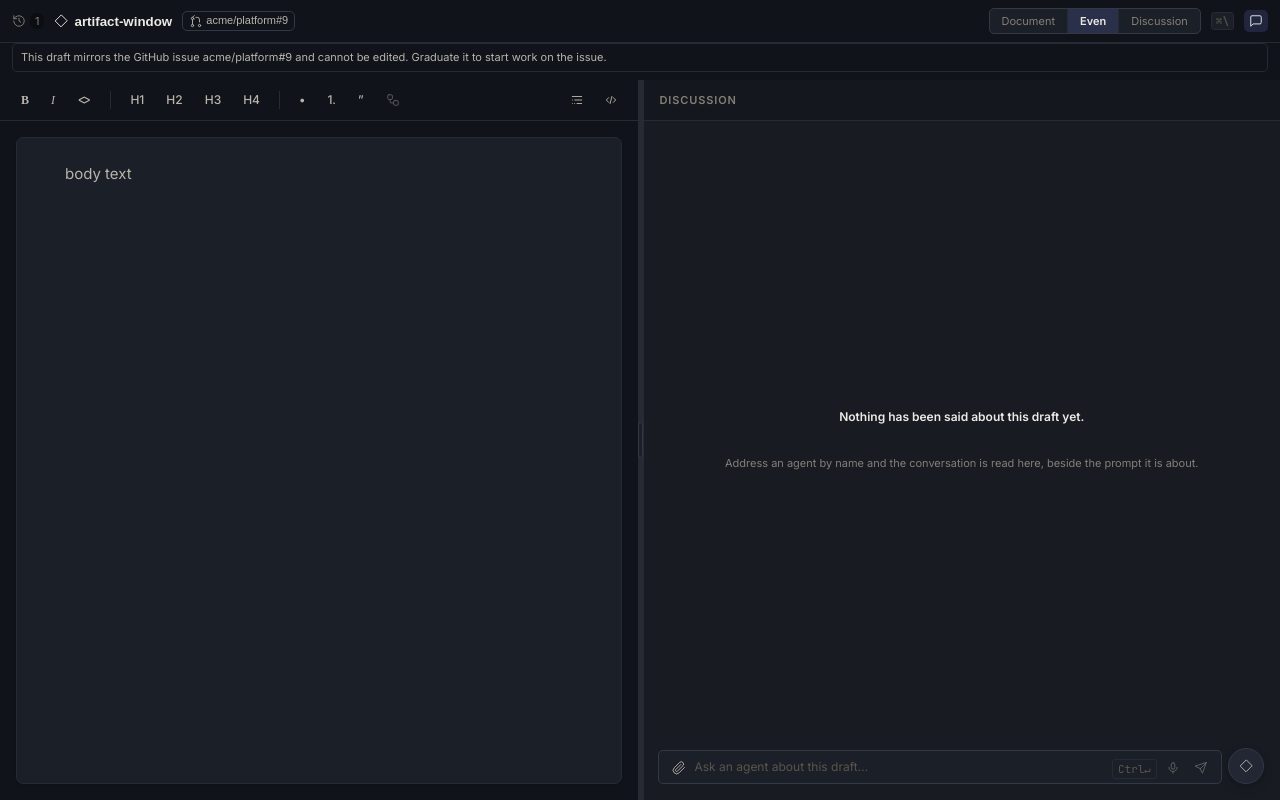
Test: New Artifact workspace — a GitHub-shadow draft › NAW-FR-AXFQ / GSD-FR-LXAF: Graduate opens the same start dialog with the same questions
Check: the text with test id "draft-github-shadow-banner" is shown, box [12,43,1268,72]
Click the button named "Draft actions": click(1246, 766) [1228,748,1264,784]
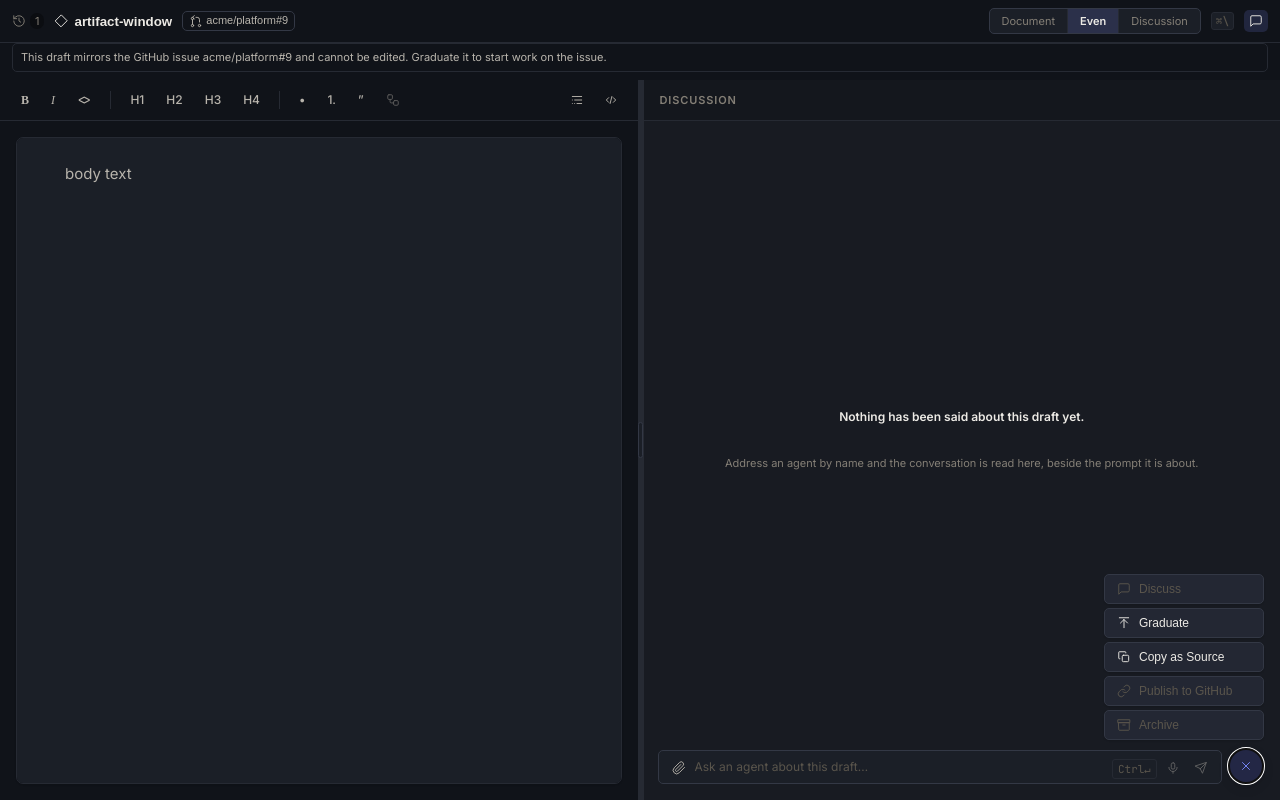
Click the menu item "Graduate": click(1184, 623) [1104,608,1264,638]
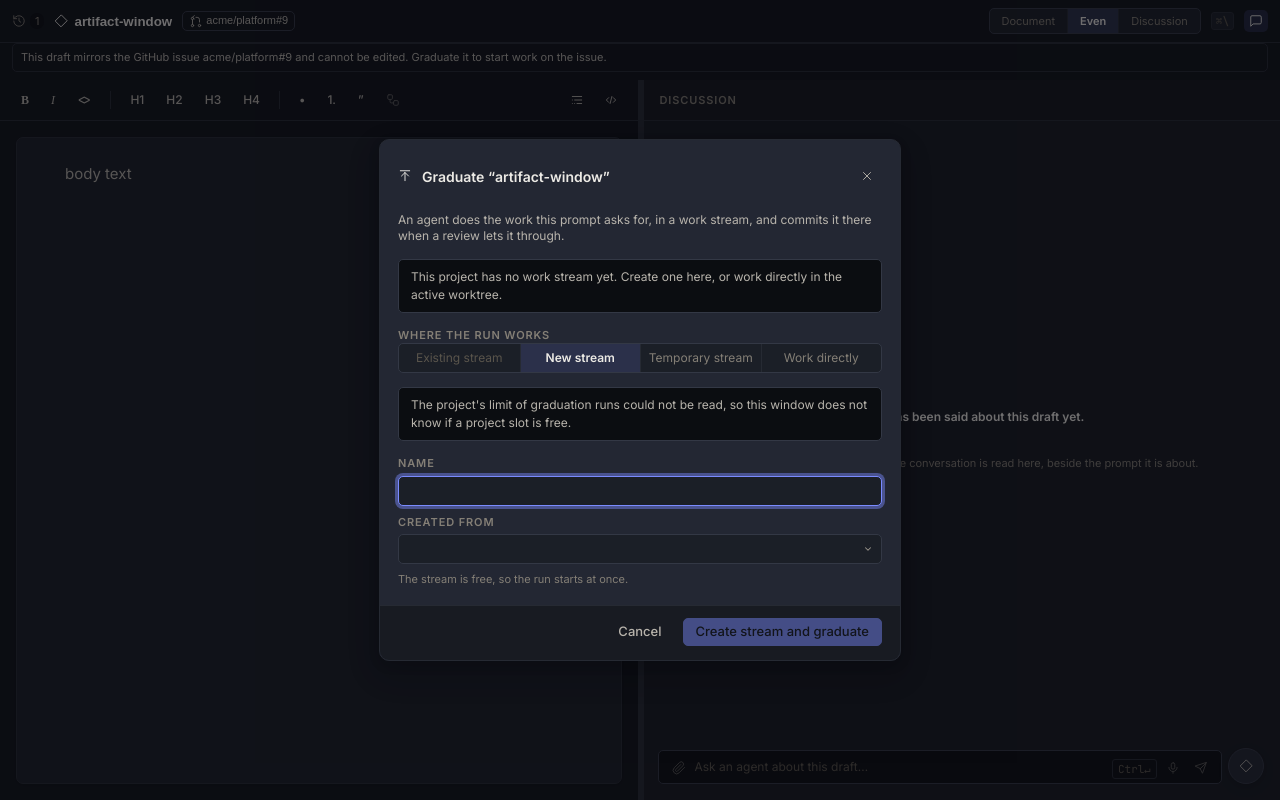
Check: the dialog named "Graduate .artifact-window." is shown, box [379,139,901,661]
